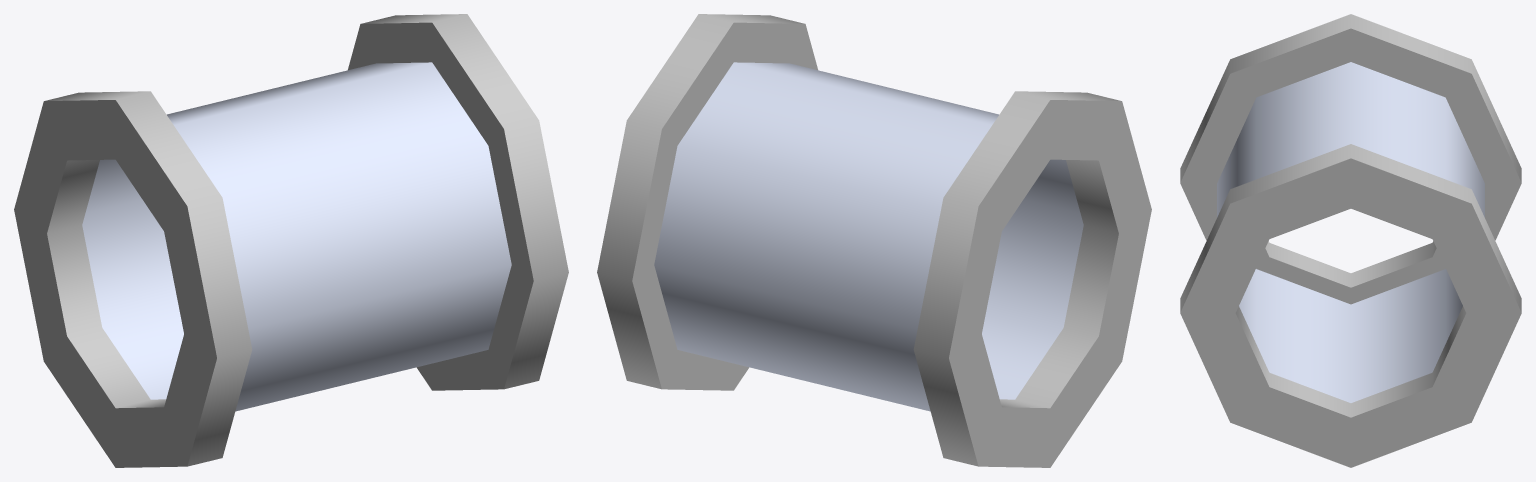
Rendered from pipe-glass-large.obj.
3 renders of one model, left to right at view 1: azimuth 30°, elevation 25°; view 2: azimuth 150°, elevation 25°; view 3: azimuth 270°, elevation 25°, orthographic. The views are drawn at different scales.
Parts seen in each view (by area): view 1: pipe-glass-large; view 2: pipe-glass-large; view 3: pipe-glass-large.
Boxes of the visible parts, x1,y1,x2,y2 form: pipe-glass-large: (14, 14, 568, 467); pipe-glass-large: (597, 14, 1151, 467); pipe-glass-large: (1180, 14, 1521, 467).
Bounding box in the file's own units: 1 × 1 × 1.
